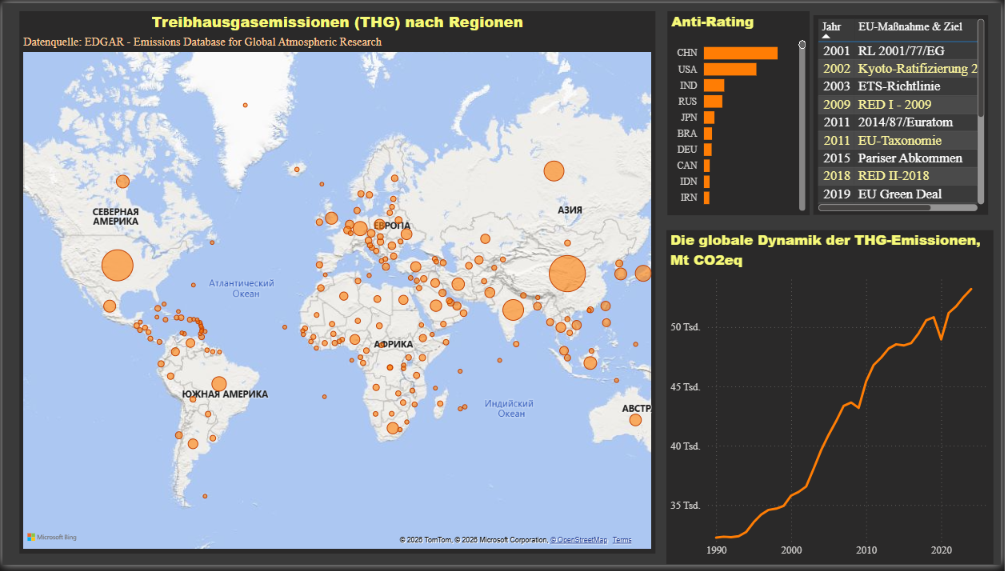

The dashboard page shown, as its layout file describes it:
{"tool":"powerbi","page":{"name":"Weltsituation","canvas":[1280,720],"ordinal":0},"visuals":[{"type":"map","title":"Treibhausgasemissionen (THG) nach Regionen","fields":{"Category":["dim_country.Country"],"Size":["Sum(fact_GHG.Emission_sector)"]},"box":[21.4,10.7,815.1,694.1],"z":0},{"type":"clusteredBarChart","title":"Anti-Rating ","fields":{"Y":["Sum(fact_GHG.Emission_sector)"],"Category":["dim_country.Country Code"]},"box":[852.1,10.8,182.2,261.3],"z":1000},{"type":"lineChart","title":"Die globale Dynamik der THG-Emissionen, Mt CO2eq","fields":{"Category":["dim_year.Year"],"Y":["fact_GHG.Total GHG"]},"box":[851.9,291.6,419.6,428.1],"z":2000},{"type":"tableEx","fields":{"Values":["E-Maßnahme.Jahr","E-Maßnahme.EU-Maßnahme & Ziel","E-Maßnahme.Ebene"]},"box":[1040,16,224,256],"z":3000}]}

Visuals, with their boxes in screenshot pixels (x1, y1, x2, y2), scaled from the page's 1280x720 canvas onto the 1005x571 screenshot:
"Treibhausgasemissionen (THG) nach Regionen" map: [left=17, top=8, right=657, bottom=559]
"Anti-Rating " clusteredBarChart: [left=669, top=9, right=812, bottom=216]
"Die globale Dynamik der THG-Emissionen, Mt CO2eq" lineChart: [left=669, top=231, right=998, bottom=570]
tableEx - E-Maßnahme.Jahr x E-Maßnahme.EU-Maßnahme & Ziel: [left=817, top=13, right=992, bottom=216]
